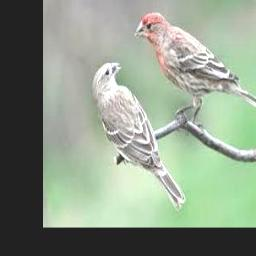Sparrow: (92, 62, 186, 210), (135, 12, 256, 124)
